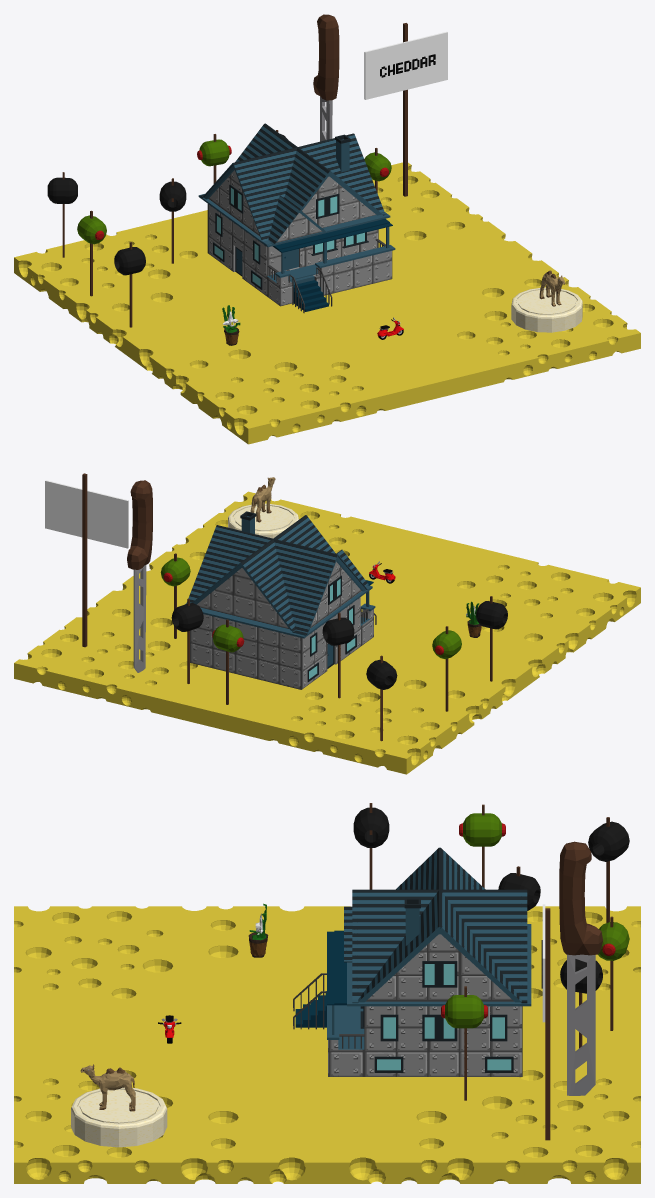
The picture shows the model from 3 angles, top to bottom: view 1: azimuth 30°, elevation 25°; view 2: azimuth 150°, elevation 25°; view 3: azimuth 270°, elevation 25°; orthographic projection. The views are drawn at different scales.
Visible parts, largest first — view 1: Cube.022, Cube.078, Cube.023, Cylinder.016, Cube.024, Sphere.017, Sphere.016, Sphere.020, Sphere.018, Sphere.022, Sphere.019; view 2: Cube.022, Cube.078, Cube.023, Cube.024, Cylinder.016, Sphere.017, Sphere.020, Sphere.021, Sphere.016, Sphere.018, Sphere.022, Sphere.019 (+1 smaller); view 3: Cube.022, Cube.078, Cube.024, Cylinder.016, Cube.023, Sphere.019, Sphere.016, Sphere.018, Sphere.017, Sphere.022, ANIMAL_CAMELLO, Sphere.020 (+2 smaller).
Boxes of the visible parts, x1,y1,x2,y2 form: Cube.022: [14, 162, 640, 444]; Cube.078: [198, 123, 395, 313]; Cube.023: [364, 23, 447, 196]; Cylinder.016: [511, 287, 582, 332]; Cube.024: [313, 14, 339, 141]; Sphere.017: [114, 242, 145, 327]; Sphere.016: [47, 172, 77, 257]; Sphere.020: [159, 178, 186, 263]; Sphere.018: [77, 210, 106, 296]; Sphere.022: [197, 134, 231, 183]; Sphere.019: [364, 148, 391, 192]; Cube.022: [14, 491, 640, 774]; Cube.078: [185, 511, 376, 689]; Cube.023: [45, 473, 128, 647]; Cube.024: [127, 480, 152, 672]; Cylinder.016: [228, 503, 298, 538]; Sphere.017: [476, 596, 507, 681]; Sphere.020: [322, 612, 354, 698]; Sphere.021: [171, 598, 203, 683]; Sphere.016: [366, 655, 397, 741]; Sphere.018: [432, 626, 461, 711]; Sphere.022: [212, 619, 244, 704]; Sphere.019: [160, 553, 190, 638]; Cube.022: [14, 906, 640, 1183]; Cube.078: [293, 847, 531, 1076]; Cube.024: [559, 841, 602, 1095]; Cylinder.016: [71, 1087, 167, 1147]; Cube.023: [541, 904, 550, 1140]; Sphere.019: [441, 986, 487, 1100]; Sphere.016: [588, 817, 629, 922]; Sphere.018: [459, 804, 505, 887]; Sphere.017: [353, 803, 389, 889]; Sphere.022: [598, 916, 629, 1030]; ANIMAL_CAMELLO: [80, 1064, 135, 1111]; Sphere.020: [498, 866, 540, 910].
Size of the model in its own units: 3917 by 2007 by 4000.
Materials: 37 (5 with a texture image).
